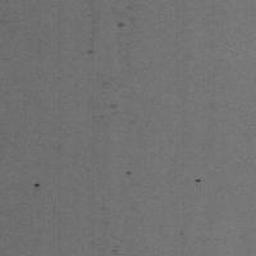Inclusion: (117, 22, 125, 28)
